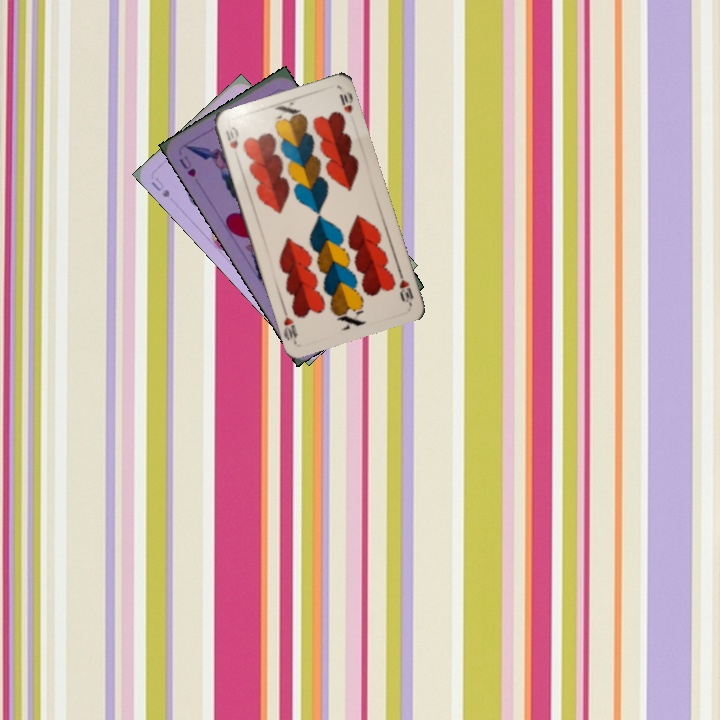H10: (394, 266, 416, 306), (221, 123, 241, 151)
HU: (175, 151, 199, 180)
SU: (147, 174, 172, 200)
